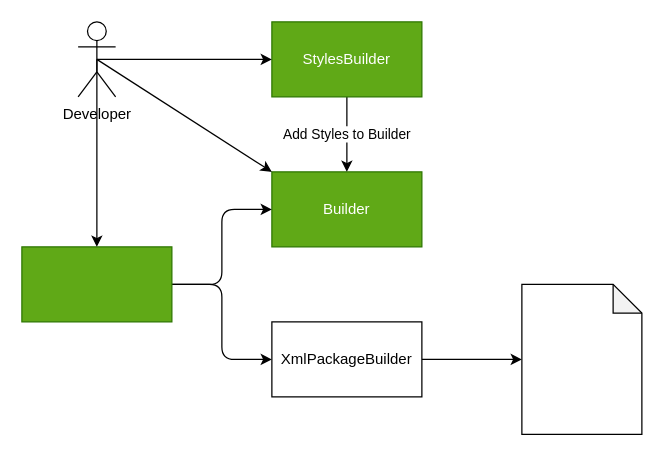
The diagram is 664 pixels wide and 456 high, and some of its shapes have lost their labels. The box of each missing label's shape, as (x1, y1, x2, y2) in pixels:
Build: (21, 246, 172, 322)
Document or ContentVersion: (521, 283, 642, 434)
